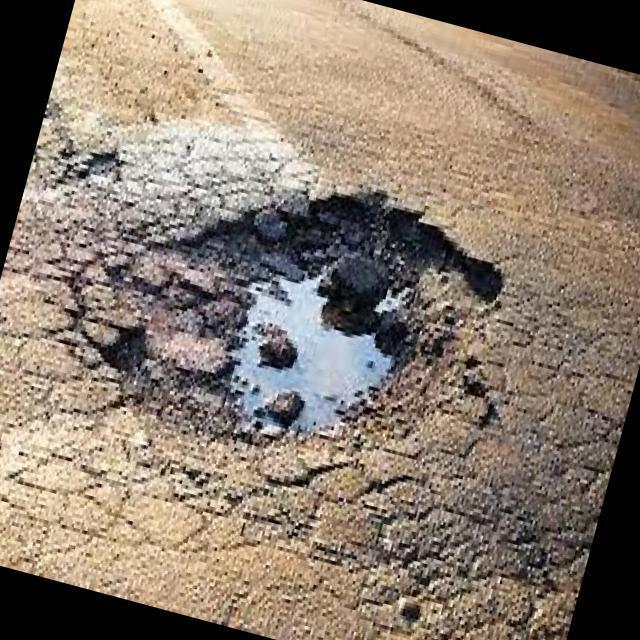Pothole: (96, 195, 502, 439)
